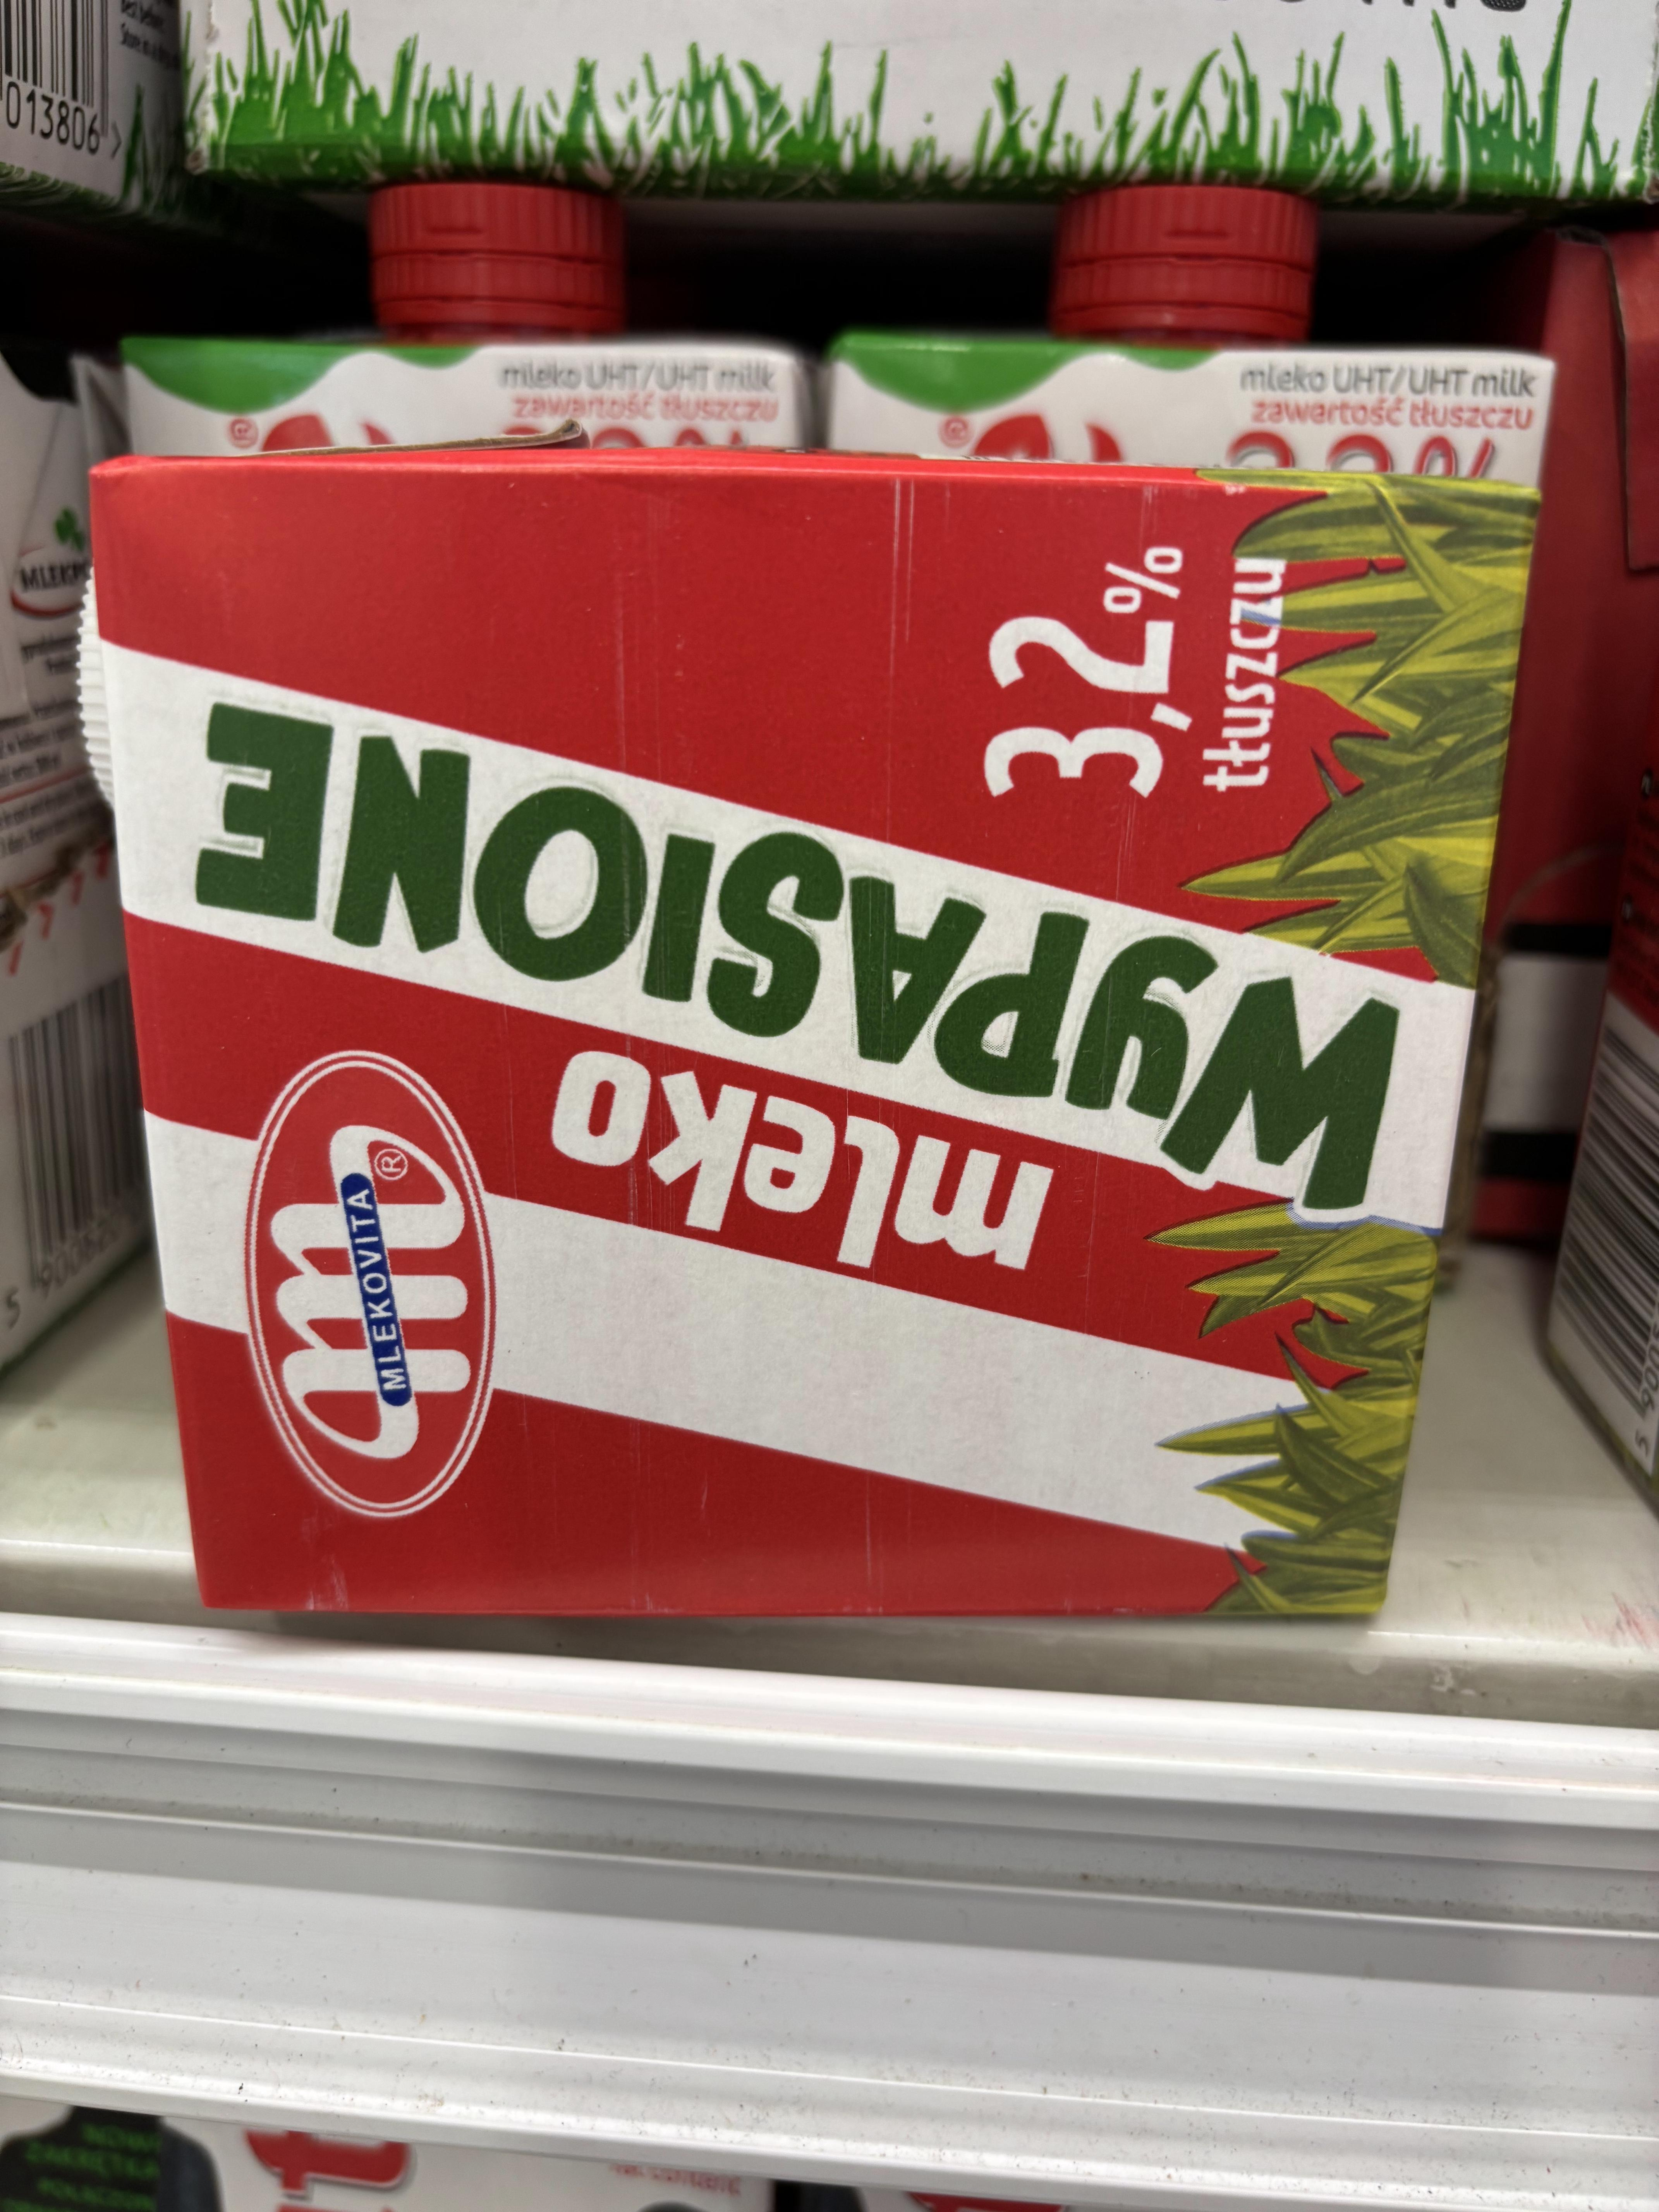Milk: (80, 467, 1535, 1728)
